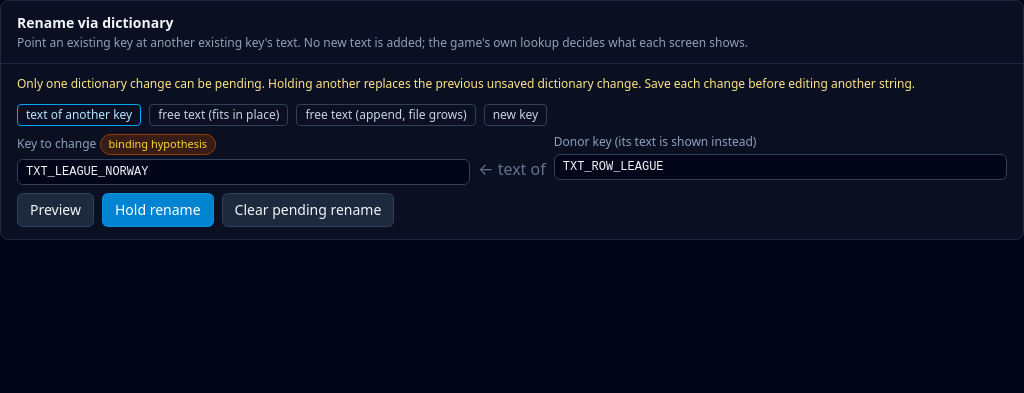
Test: DictionaryRenamePanel growth (LOC-W3) › appends text through the growth command with a text op, and inserts a new key with an insert op
Click the button with test id "mode-grow" at point(386, 115), box [296,104,476,126]
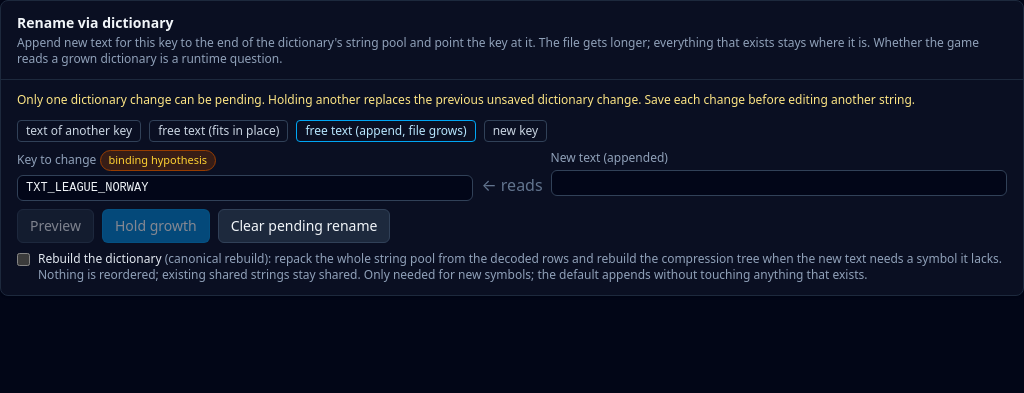
Type "Kingdom of Norway" into the field labelled "New text" at point(779, 183), box [551,170,1007,196]
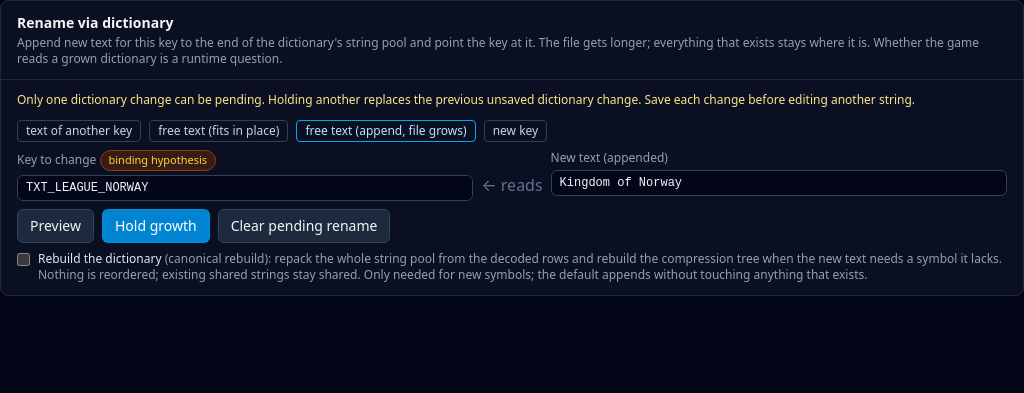
Click the button "Preview" at point(55, 226), box [17,209,94,243]
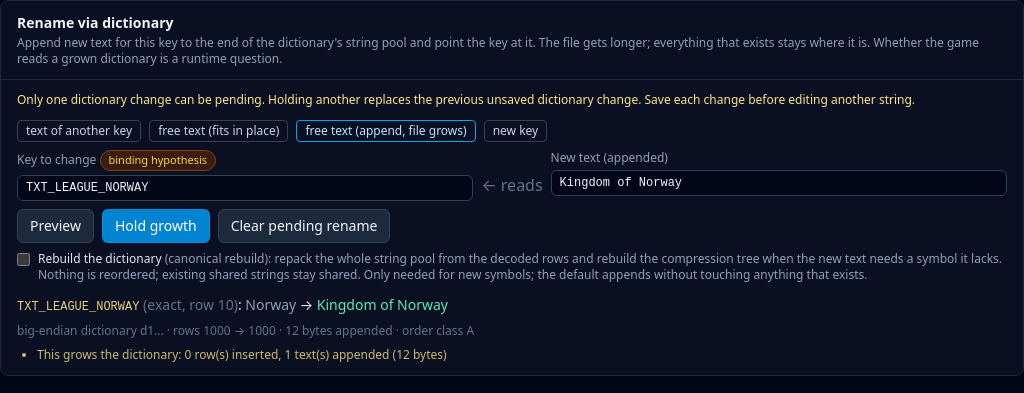
Now the element with test id "rename-preview" shows "Kingdom of Norway", box [317,295,448,314]
Now the element with test id "rename-preview" shows "12 bytes appended", box [285,322,393,339]
Now the element with test id "rename-preview" shows "order class A", box [17,295,474,363]
Click the button "Hold growth" at point(156, 226), box [102,209,210,243]
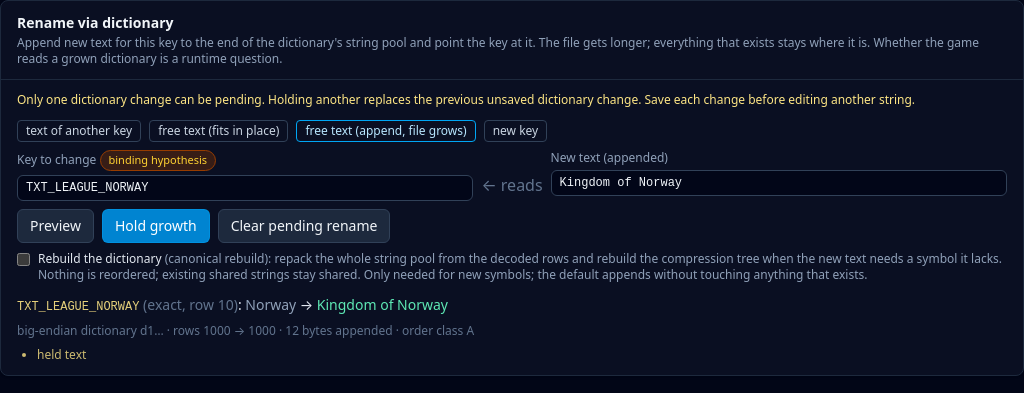
Now the element with test id "rename-preview" shows "held text", box [37,346,86,363]
Click the button with test id "mode-insert" at point(516, 131), box [484,120,547,142]
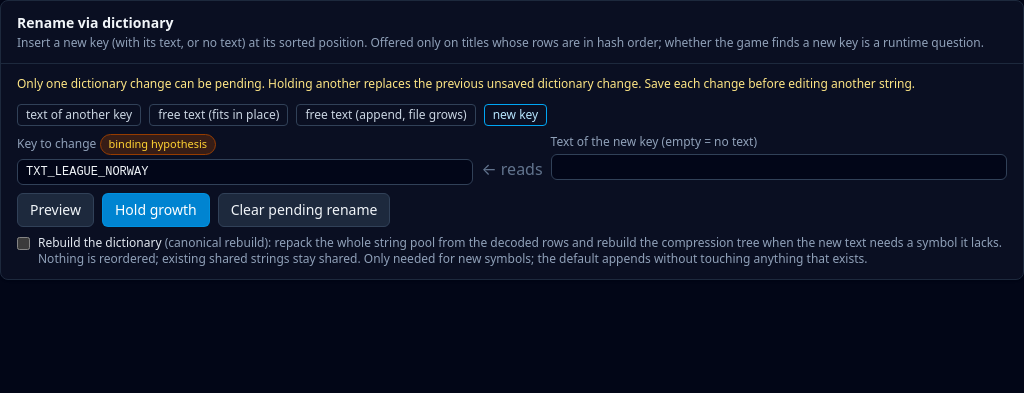
Now the element with test id "rename-preview" is gone
Replace the text in the field named "dictionary key to change" with "TXT_LEAGUE_STUDIO_NEW" at point(245, 172), box [17,159,473,185]
Type "Studio League" into the field named "new text" at point(779, 167), box [551,154,1007,180]
Click the button "Preview" at point(55, 210), box [17,193,94,227]
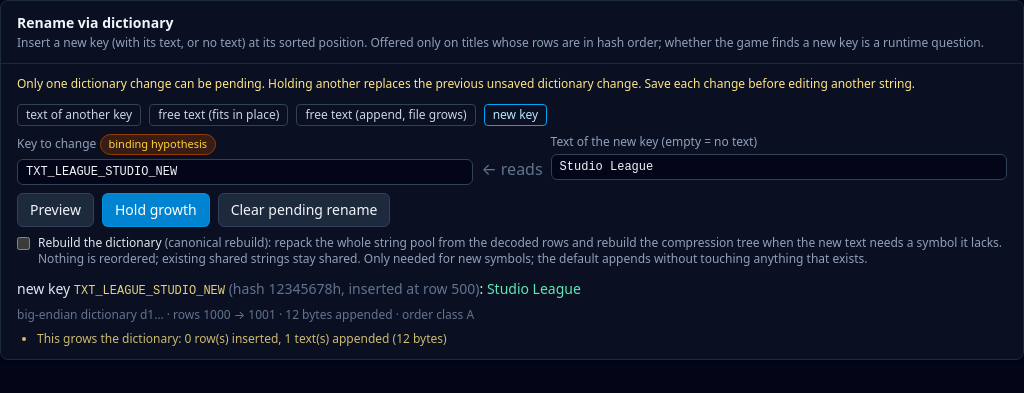
Now the element with test id "rename-preview" shows "inserted at row 500", box [17,279,581,347]
Now the element with test id "rename-preview" shows "rows 1000 → 1001", box [17,279,581,347]
